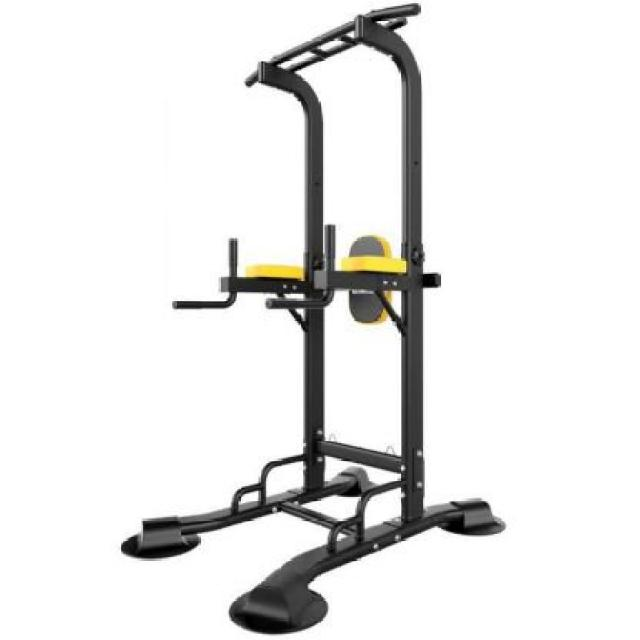chinning dipping: (122, 3, 506, 631)
